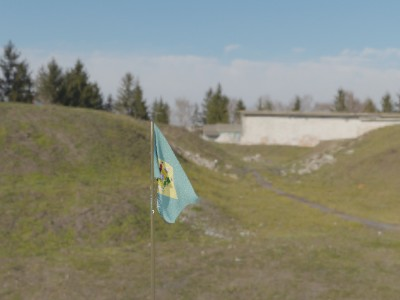Delaware flag: (153, 125, 202, 226)
